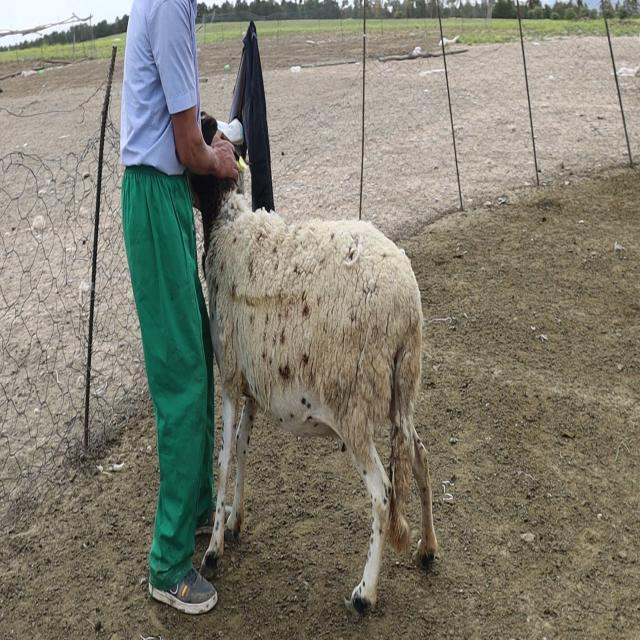Score_5: (190, 173, 437, 614)
